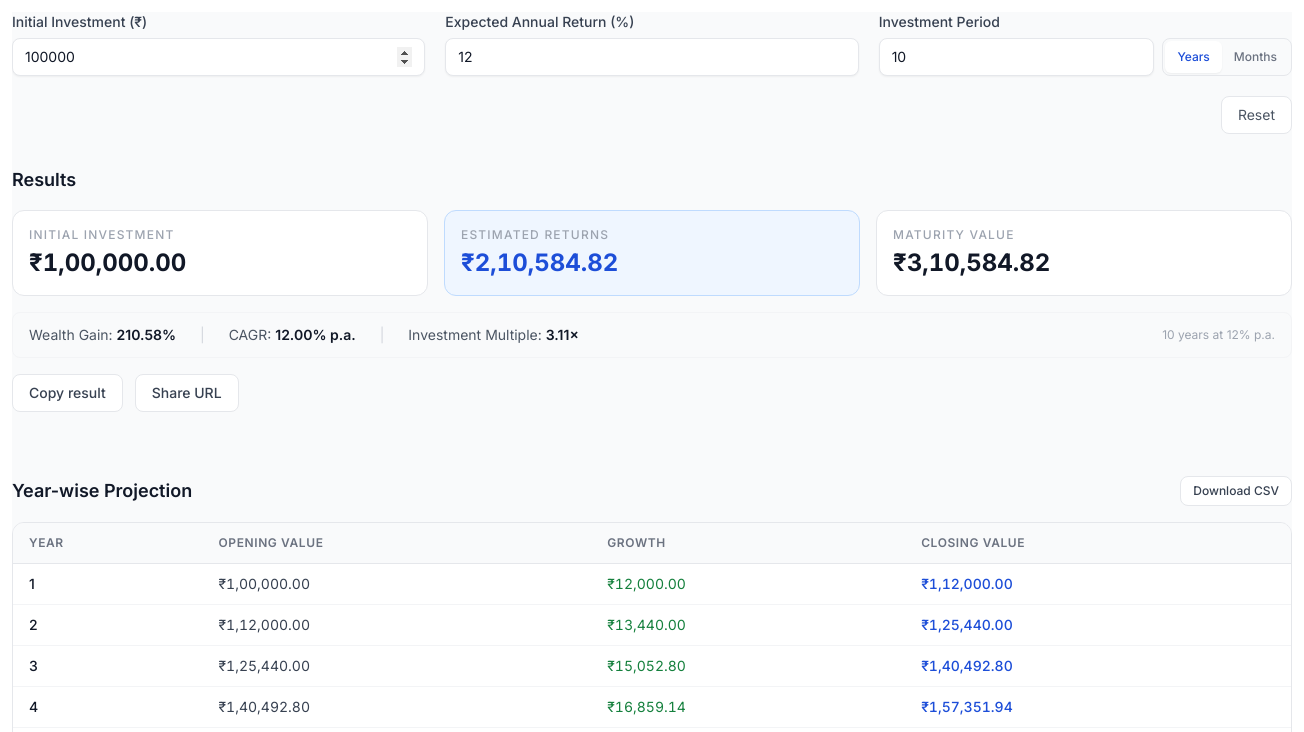
Test: LumpsumCalculator › negative return produces a negative CAGR display
Replace the text in the number field labelled "Expected Annual Return (%)" with "-10": (652, 57) [445,38,859,76]
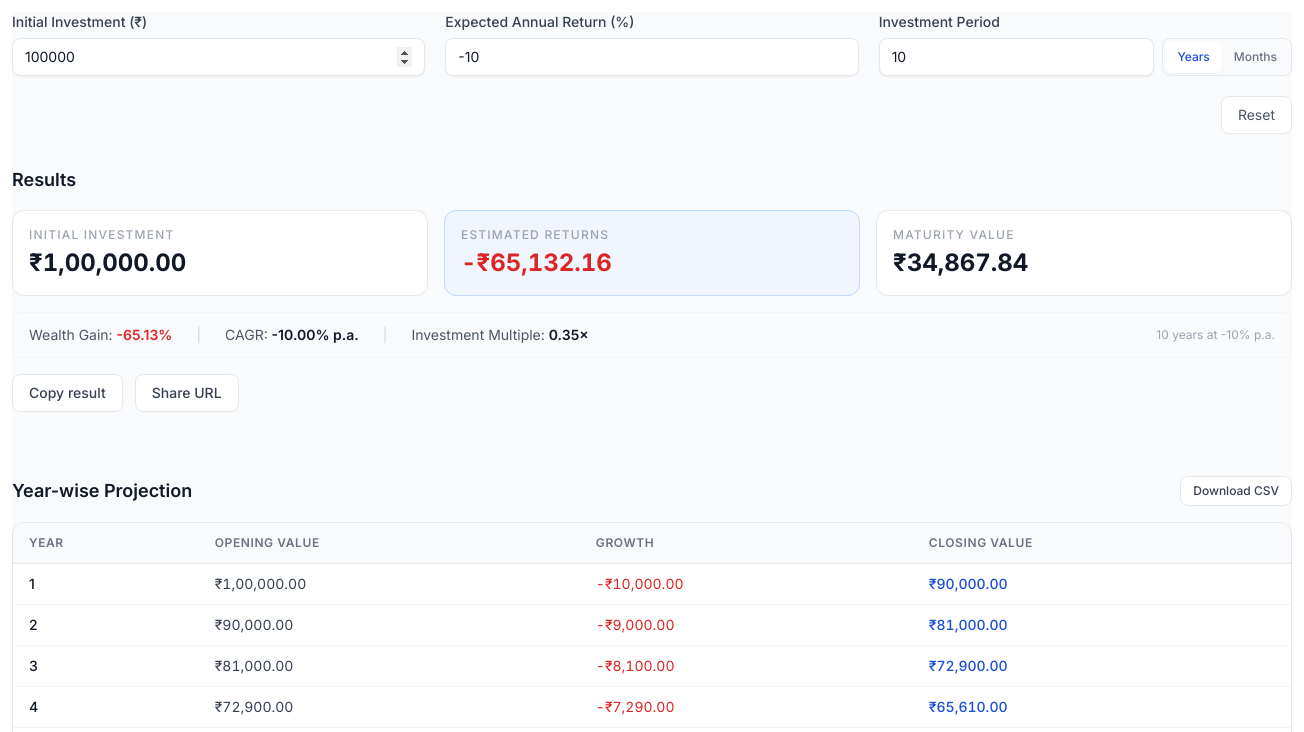
expect the text "-10.00% p.a." is shown: met, box [272,326,359,343]
